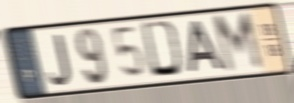5: (108, 24, 148, 82)
9: (75, 26, 111, 88)
A: (188, 18, 228, 75)
D: (139, 18, 186, 81)
J: (46, 32, 73, 87)
M: (210, 9, 267, 77)
